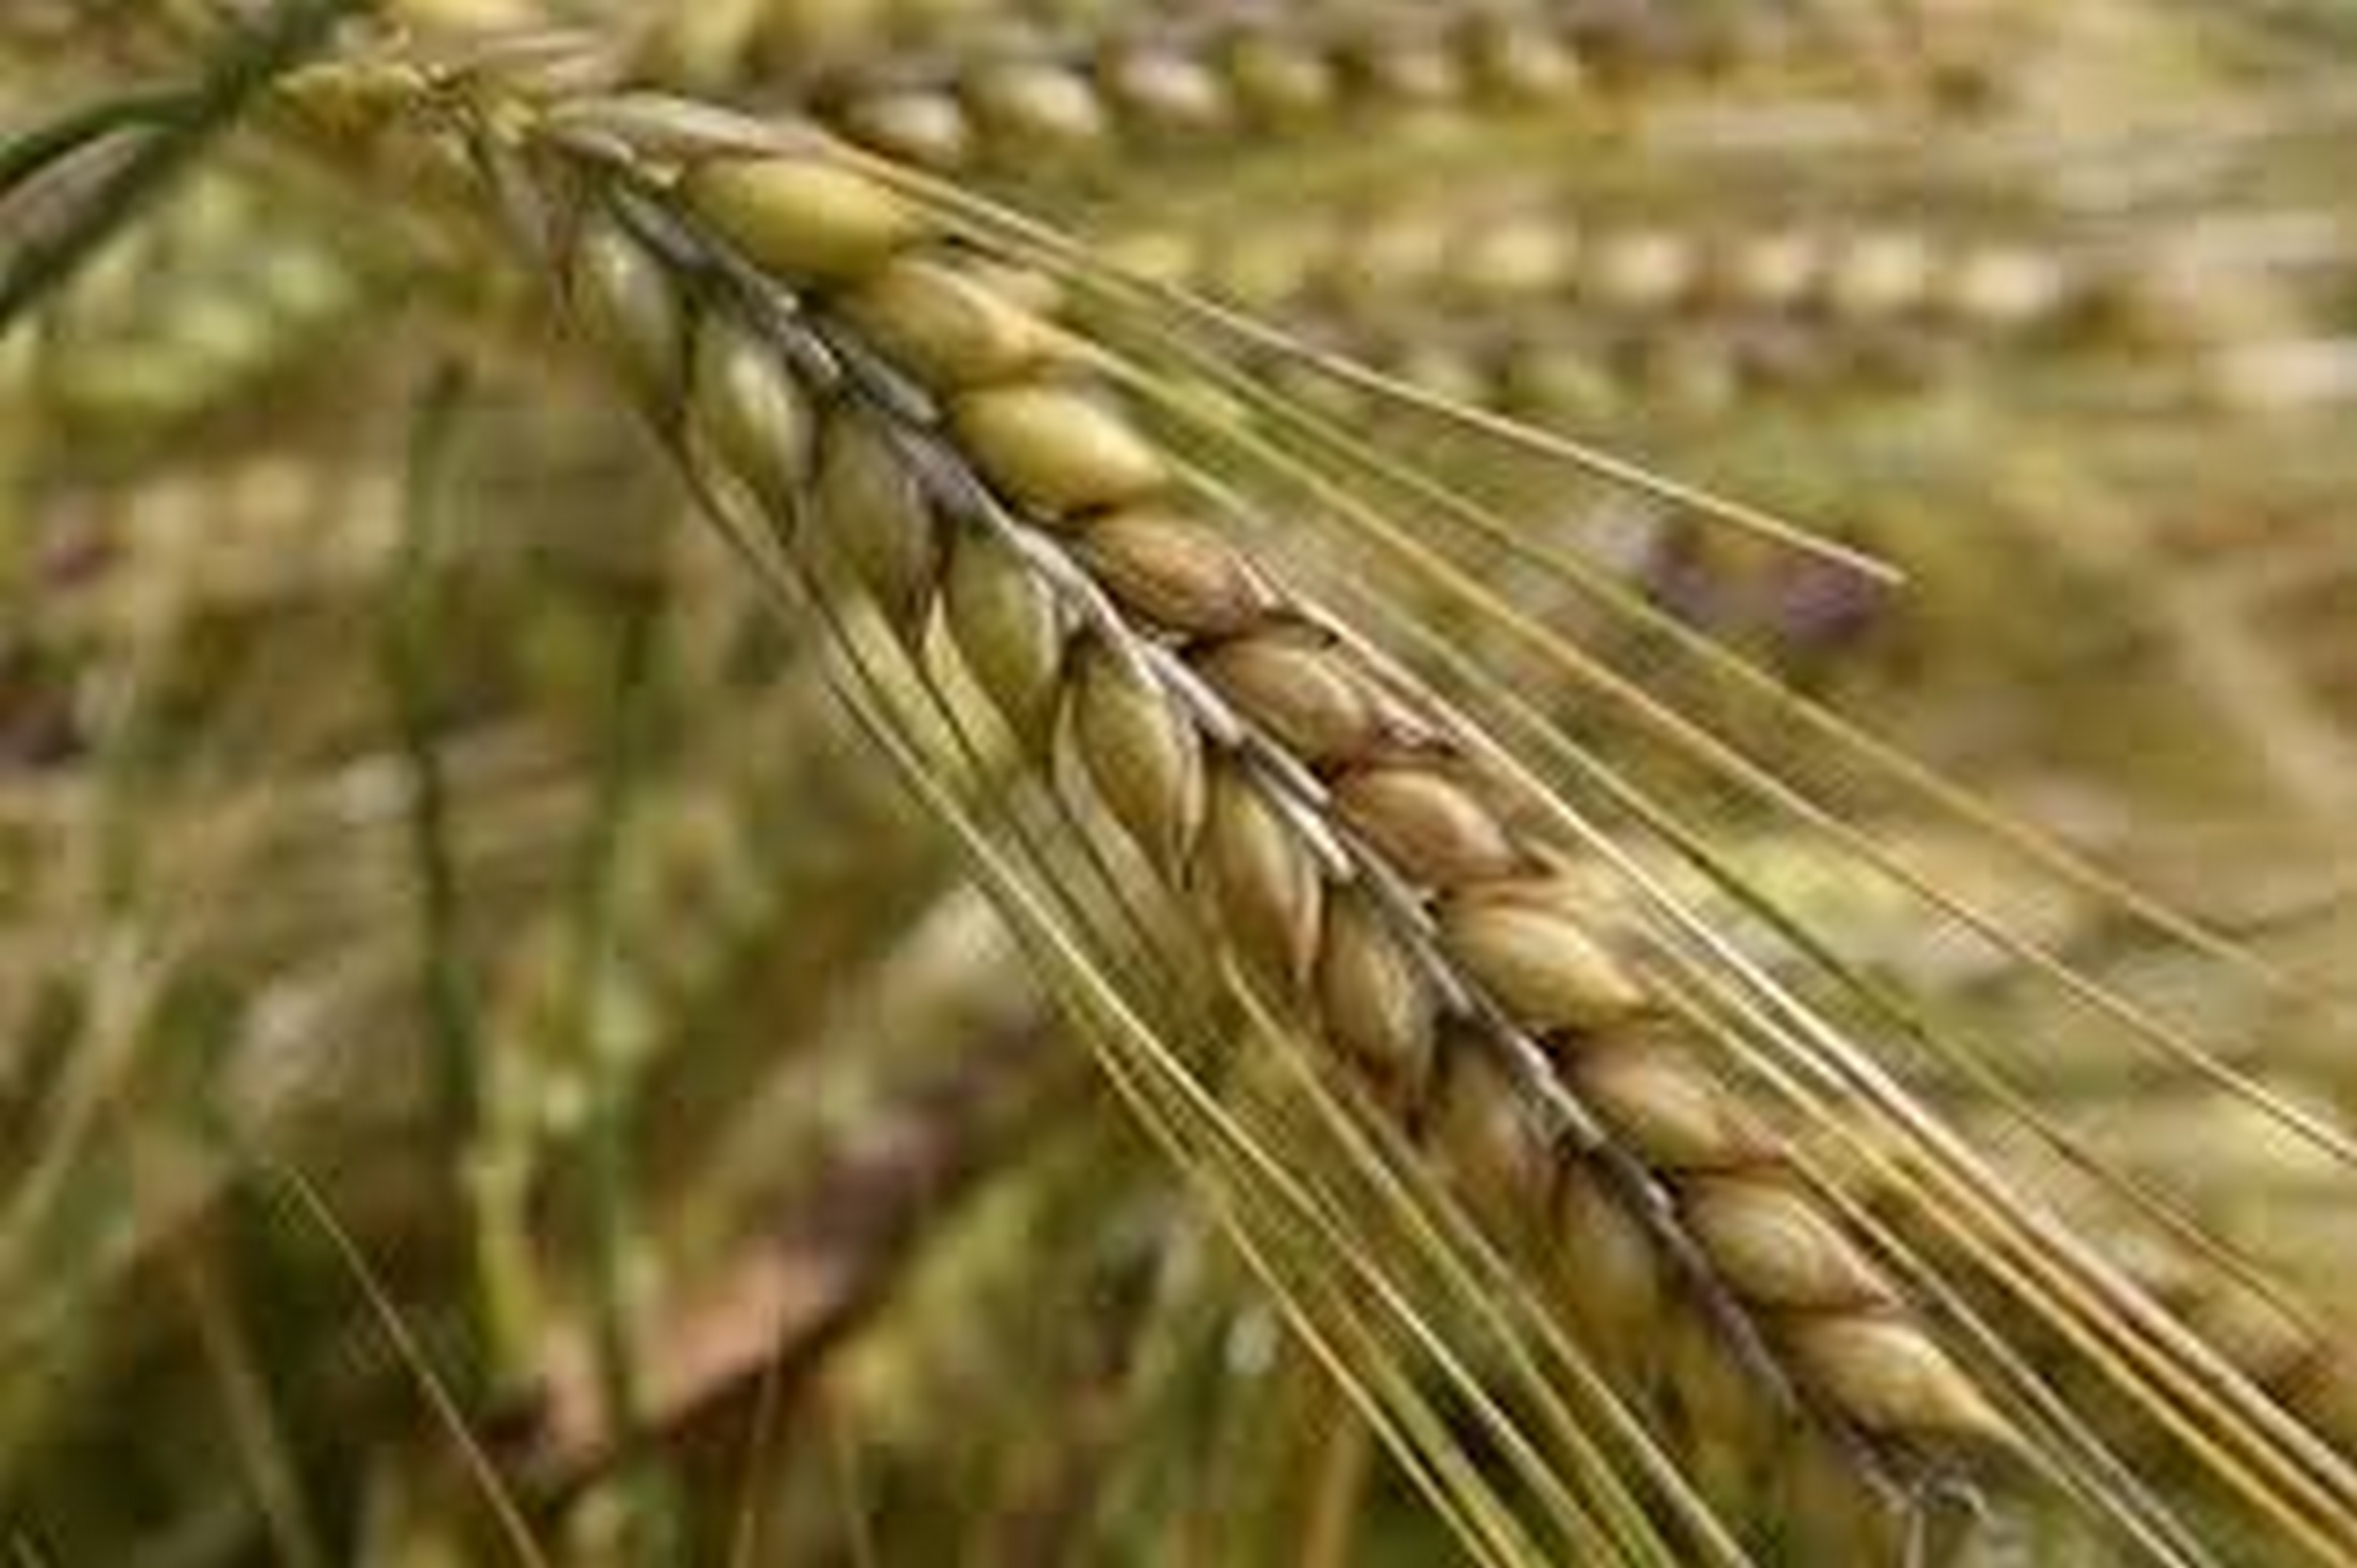Healthy Wheat: (591, 110, 1897, 1494)
